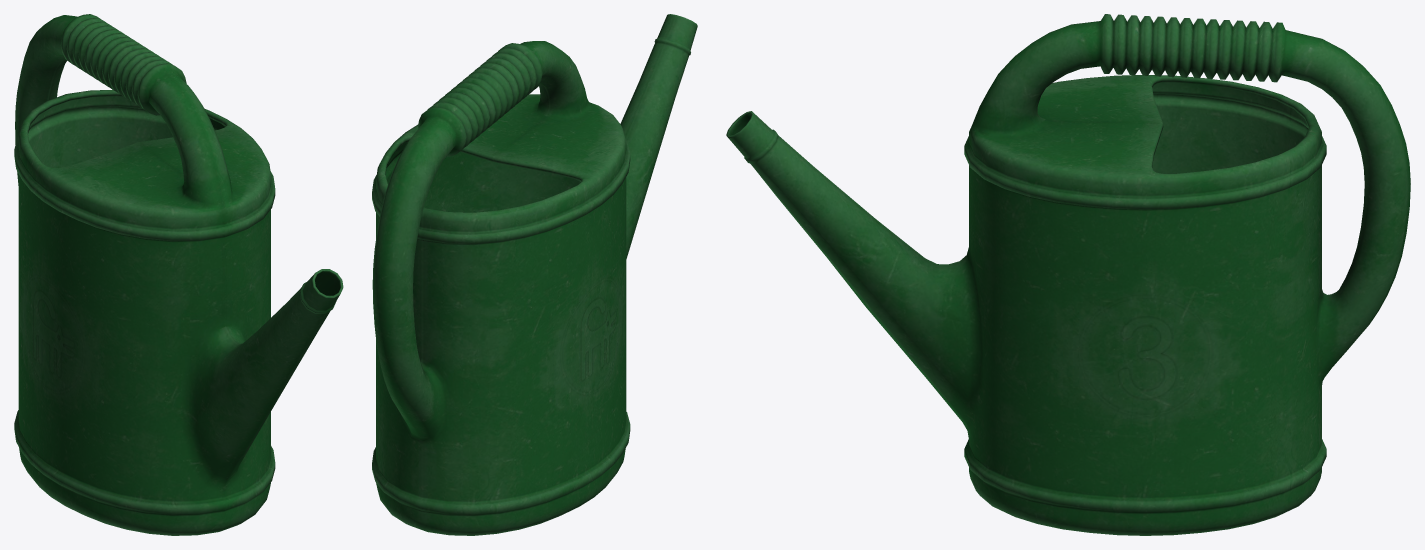
The model's file is watering_can_derivative.glb.
The picture shows the model from 3 angles, left to right: view 1: azimuth 30°, elevation 25°; view 2: azimuth 150°, elevation 25°; view 3: azimuth 270°, elevation 25°; orthographic projection. The views are drawn at different scales.
Visible parts, largest first — view 1: watering_can_lp_watering_can_0; view 2: watering_can_lp_watering_can_0; view 3: watering_can_lp_watering_can_0.
Boxes of the visible parts, x1,y1,x2,y2 form: watering_can_lp_watering_can_0: (14, 14, 343, 535); watering_can_lp_watering_can_0: (372, 14, 697, 535); watering_can_lp_watering_can_0: (726, 14, 1410, 535).
Bounding box in the file's own units: 0.1917 × 0.3842 × 0.505.
1 material, 1 textured.
